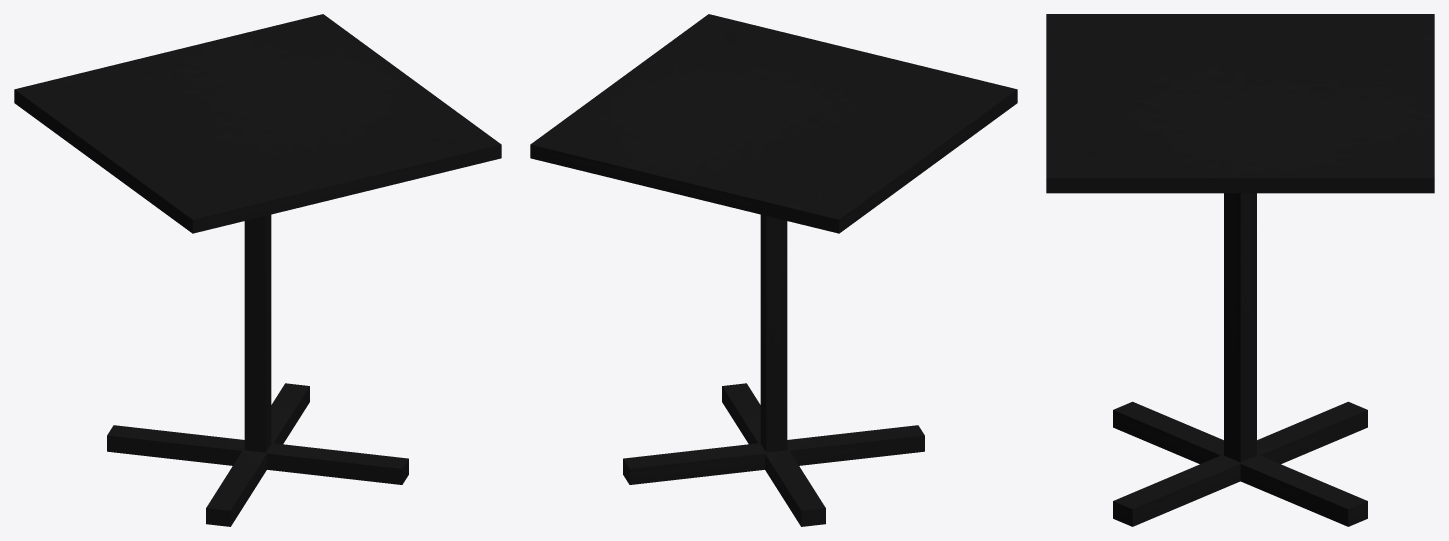
The model's file is SM_Molo_TavoloNero_LOD2.fbx.
The picture shows the model from 3 angles, left to right: view 1: azimuth 30°, elevation 25°; view 2: azimuth 150°, elevation 25°; view 3: azimuth 270°, elevation 25°; orthographic projection. The views are drawn at different scales.
Parts seen in each view (by area): view 1: SM_Molo_TavoloNero_LOD2; view 2: SM_Molo_TavoloNero_LOD2; view 3: SM_Molo_TavoloNero_LOD2.
Boxes of the visible parts, <box> form: SM_Molo_TavoloNero_LOD2: <box>14,14,501,526</box>; SM_Molo_TavoloNero_LOD2: <box>530,14,1017,526</box>; SM_Molo_TavoloNero_LOD2: <box>1046,14,1434,526</box>.
Bounding box in the file's own units: 70 × 70 × 75.
Materials: 1 (1 with a texture image).
